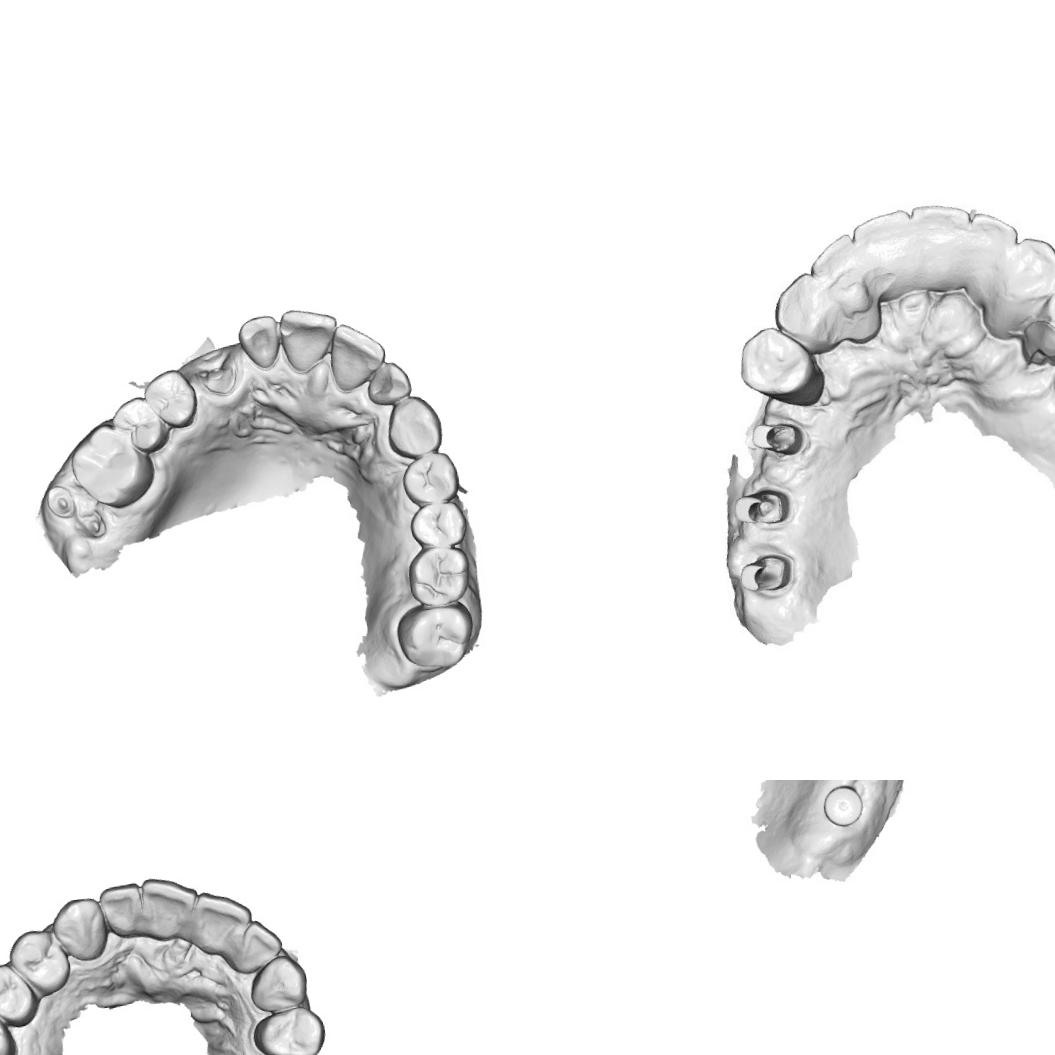abutment: (746, 410, 809, 462), (737, 544, 794, 596), (731, 481, 790, 531)
canine: (764, 267, 838, 352), (990, 233, 1055, 314), (47, 893, 111, 966), (244, 951, 312, 1018), (384, 392, 447, 463)
implant: (818, 781, 868, 831)
incisor: (842, 200, 920, 268), (324, 317, 392, 392), (275, 302, 343, 376), (190, 884, 256, 958), (136, 870, 202, 941), (907, 195, 977, 259), (806, 231, 866, 304), (966, 206, 1024, 266), (230, 916, 288, 974), (95, 880, 149, 942), (233, 310, 285, 373), (364, 358, 416, 405), (1028, 279, 1055, 357)
molar: (63, 414, 161, 516), (392, 595, 480, 674), (402, 540, 476, 609)
premolar: (735, 318, 828, 410), (4, 924, 75, 1001), (140, 366, 203, 434), (248, 1003, 330, 1055), (398, 449, 464, 509), (109, 392, 170, 456), (0, 956, 44, 1034), (408, 496, 467, 550)
